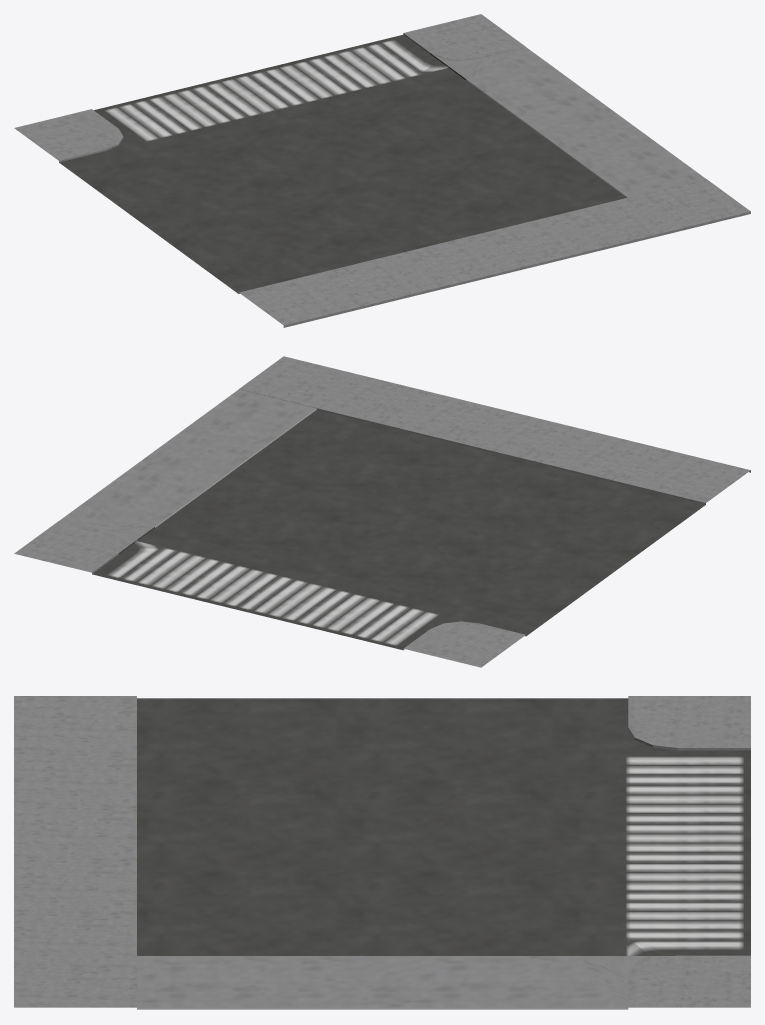
Rendered from Road_Corner.glb.
3 views of the same model, one above another, from view 1: azimuth 30°, elevation 25°; view 2: azimuth 150°, elevation 25°; view 3: azimuth 270°, elevation 25° (orthographic). The views are drawn at different scales.
Parts seen in each view (by area): view 1: Object_14; view 2: Object_14; view 3: Object_14.
Part boxes in pixels (<box>): Object_14: <box>14,14,750,327</box>; Object_14: <box>14,356,750,667</box>; Object_14: <box>14,696,750,1009</box>.
Size of the model in its own units: 6 by 0.03 by 6.
Materials: 1 (1 with a texture image).
